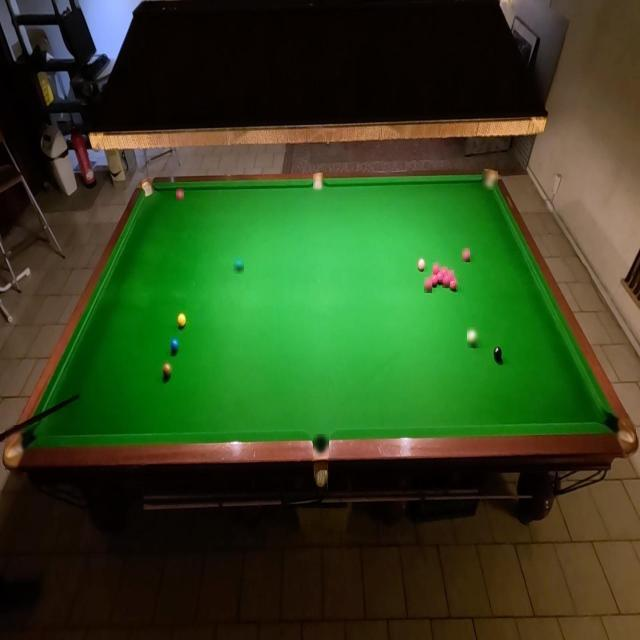Ball: (468, 327, 480, 348), (161, 361, 173, 381), (169, 336, 180, 356), (492, 345, 504, 363), (176, 312, 186, 332), (416, 256, 426, 274), (234, 258, 244, 274), (424, 277, 432, 293), (176, 187, 184, 202), (436, 270, 444, 285), (450, 277, 458, 291), (442, 274, 450, 288), (462, 248, 470, 262), (431, 273, 438, 288), (434, 263, 442, 275), (441, 267, 448, 278), (448, 270, 454, 281)
Pocket: (6, 425, 40, 470), (603, 414, 636, 452), (313, 434, 329, 456), (482, 171, 498, 190), (141, 180, 155, 199), (314, 174, 326, 192)
